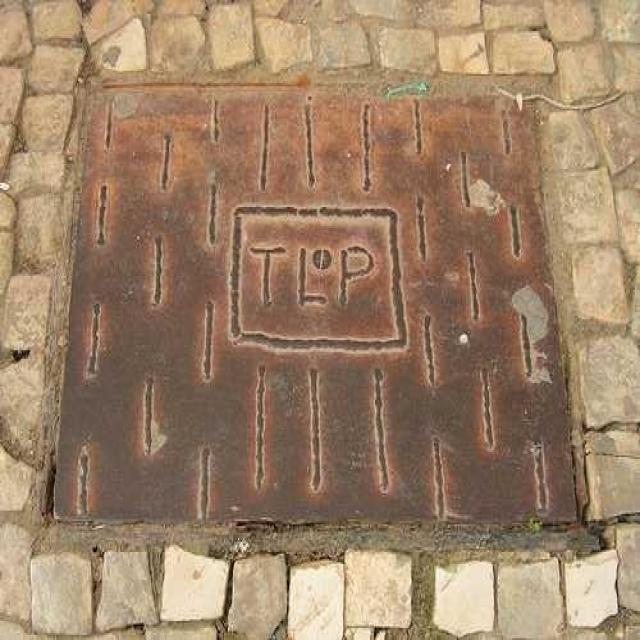manhole: (50, 81, 588, 550)
